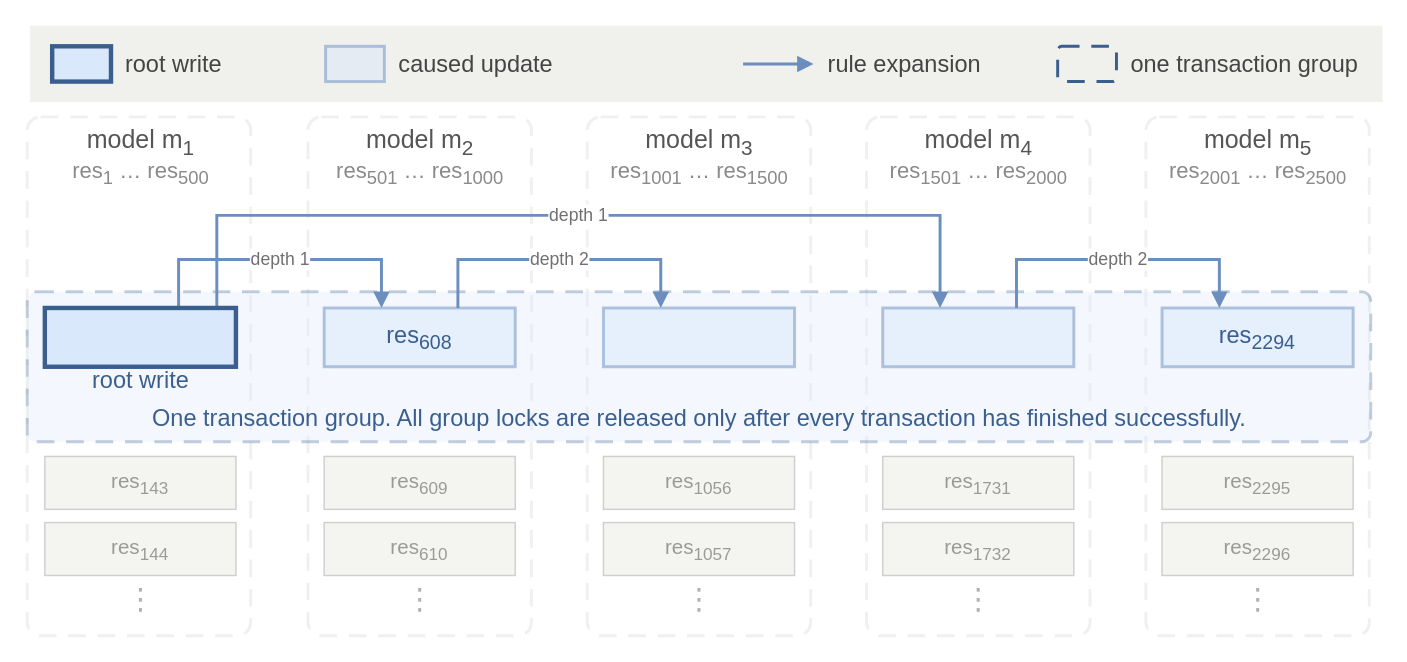
Image size: 1407x662. Some labels were removed from this diagram. The centre of each missing label's shape, as x and y in pixels:
res 1055: (698,337)
res 142: (139,336)
res 1730: (978,337)
